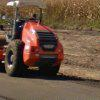Tractor: (2, 9, 77, 84)
